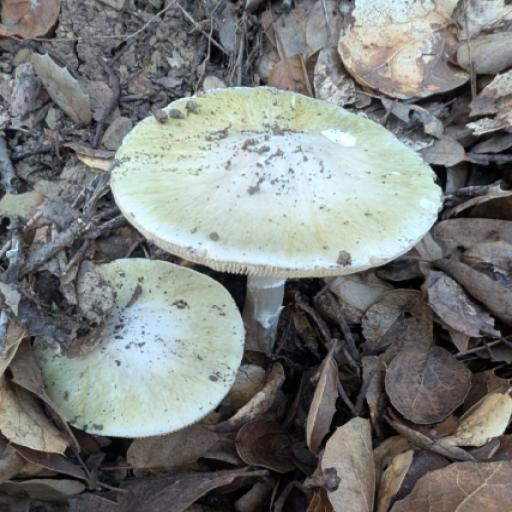mushroom: (86, 22, 459, 370), (19, 222, 271, 476)
